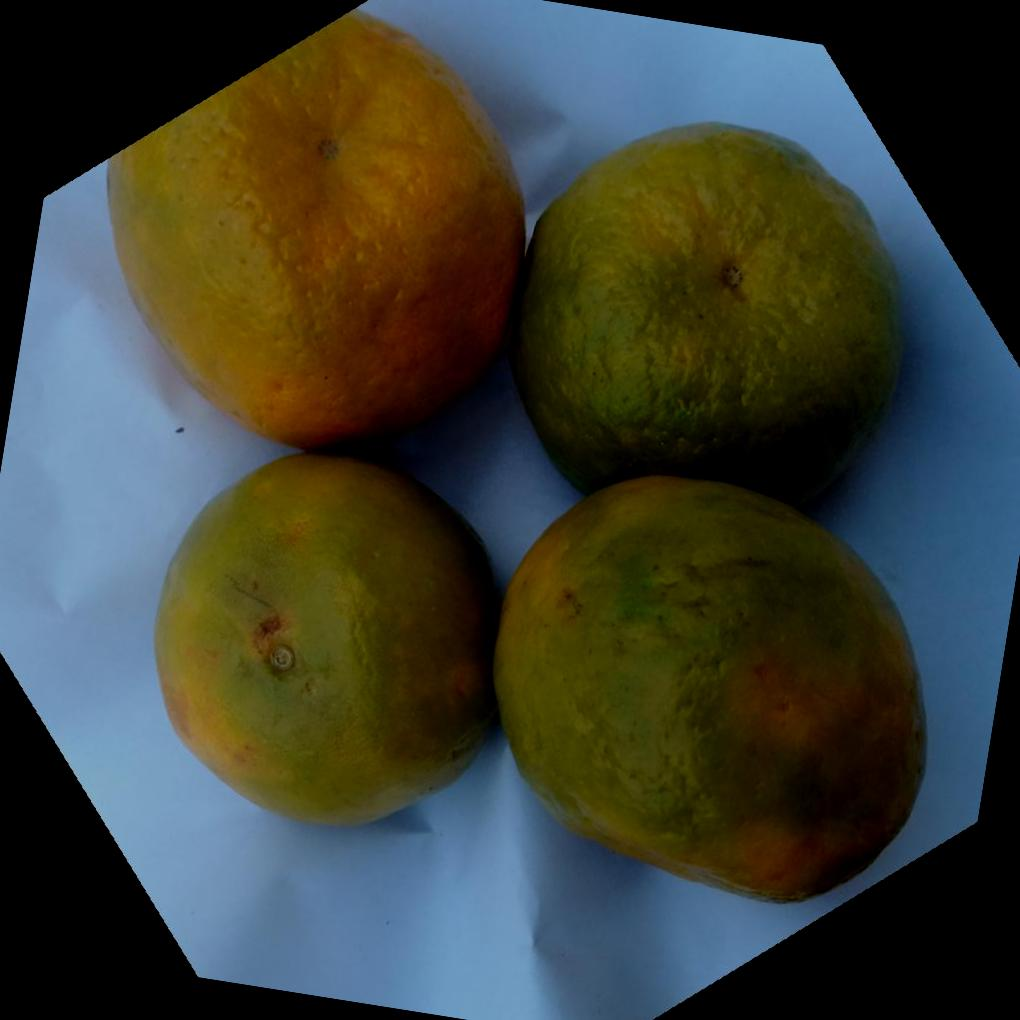FreshGuava: (107, 11, 930, 905)
